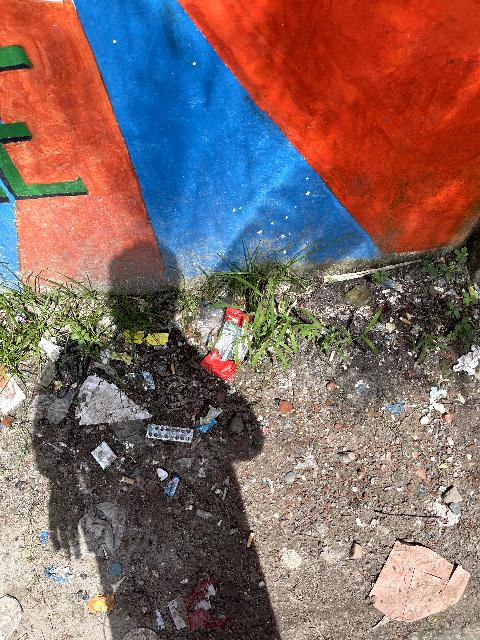bottle: (182, 317, 276, 390)
